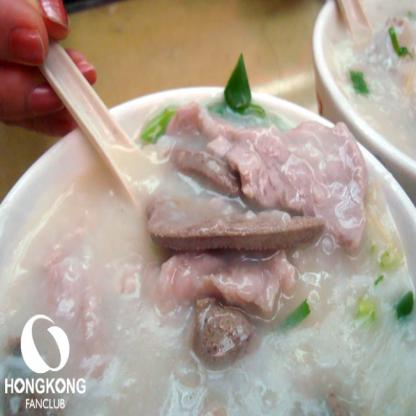Joke: (6, 106, 416, 413), (320, 5, 415, 148)
